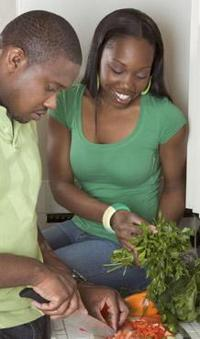person: (1, 11, 129, 339)
